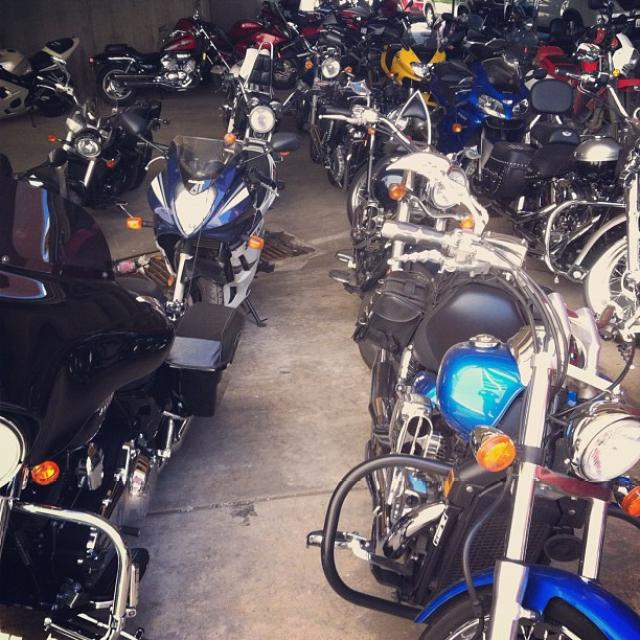motor: (307, 216, 640, 631), (3, 155, 244, 631), (475, 41, 640, 341), (117, 111, 282, 331), (316, 98, 491, 298), (87, 7, 242, 105), (364, 13, 468, 144), (430, 58, 548, 156), (39, 70, 112, 203), (0, 35, 81, 129), (218, 37, 283, 154)
